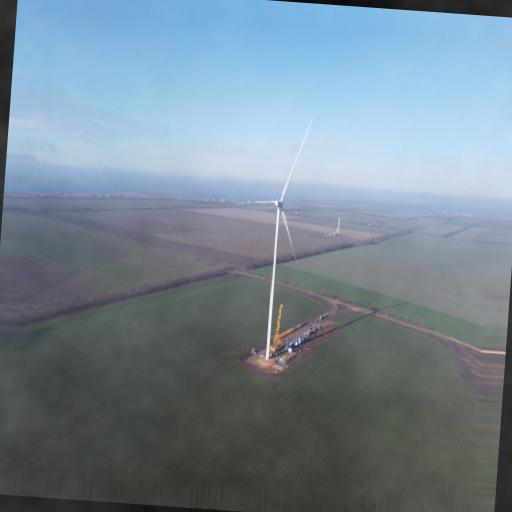wind turbine: (234, 115, 316, 357)
